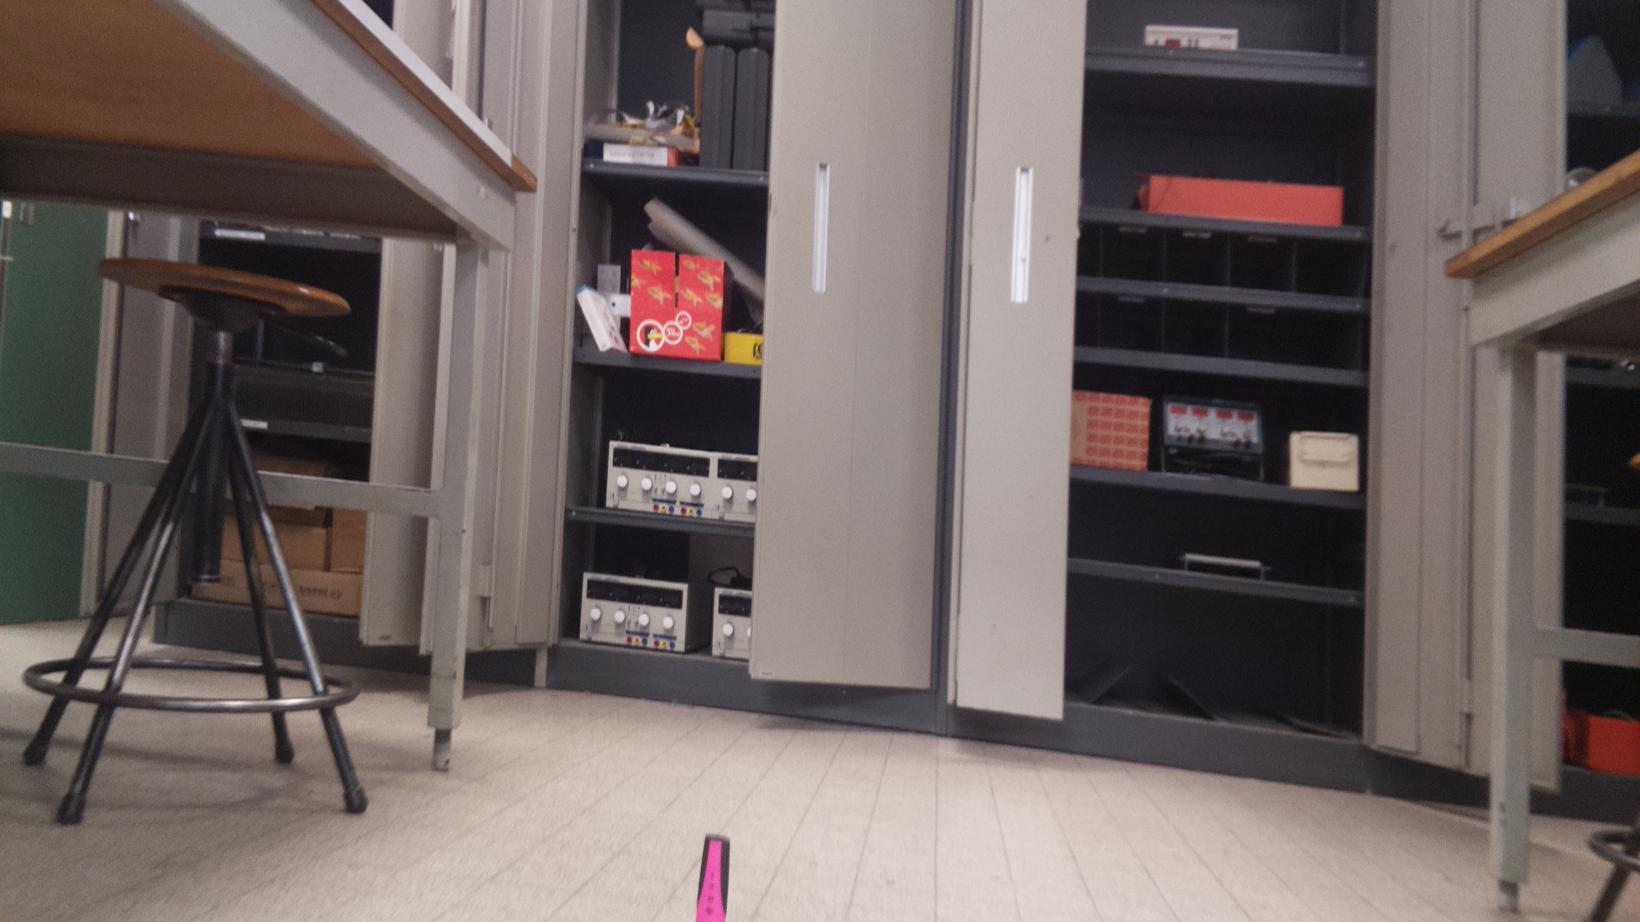small: (693, 833, 734, 922)
